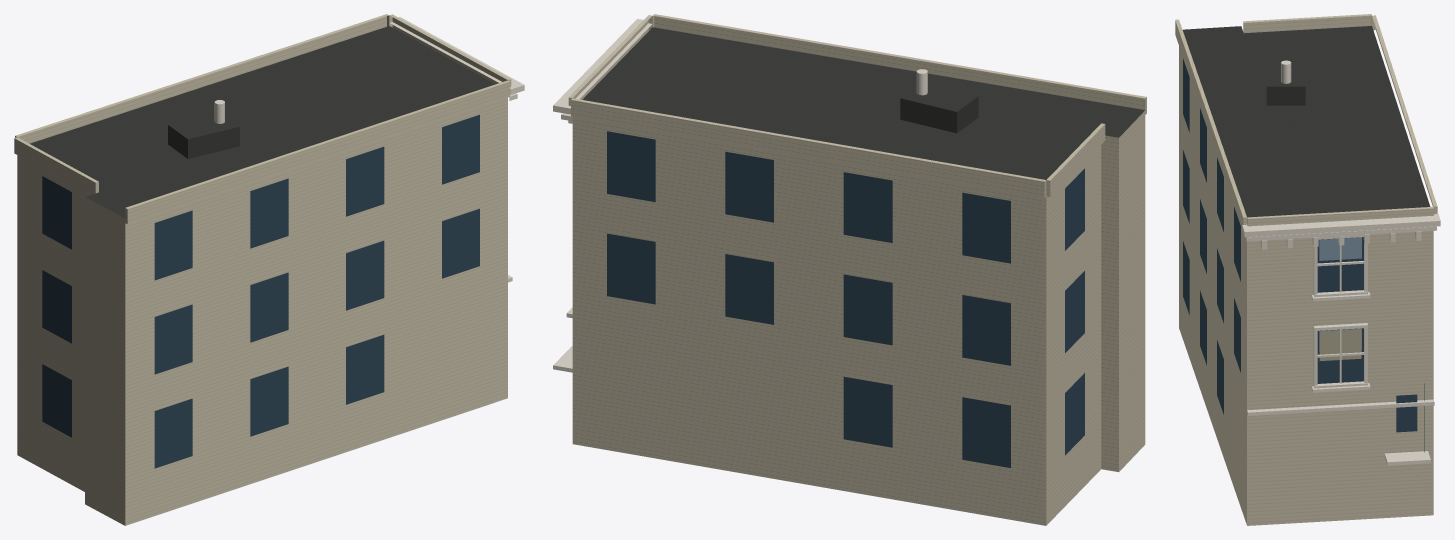
3 views of the same model, side by side, from view 1: azimuth 30°, elevation 25°; view 2: azimuth 150°, elevation 25°; view 3: azimuth 270°, elevation 25° (orthographic). The views are drawn at different scales.
Parts seen in each view (by area): view 1: Footprint 0 / surface 2, Footprint 0 / surface 1, Inset glazing, Facade bay volumes, Inferred rooftop service enclosure / surface 5, Inferred rooftop service enclosure / surface 3, Cornices and window frames; view 2: Footprint 0 / surface 2, Footprint 0 / surface 1, Inset glazing, Facade bay volumes, Cornices and window frames, Inferred rooftop service enclosure / surface 6, Inferred rooftop service enclosure / surface 3; view 3: Footprint 0 / surface 2, Footprint 0 / surface 1, Cornices and window frames, Inset glazing, Facade bay volumes, Interior blind variation, Sky reflection panels, Inferred rooftop service enclosure / surface 1, Inferred rooftop service enclosure / surface 3.
Part boxes in pixels (x1,y1,x2,y2): Footprint 0 / surface 2: (17, 97, 507, 525); Footprint 0 / surface 1: (30, 26, 495, 217); Inset glazing: (42, 114, 479, 468); Facade bay volumes: (14, 14, 511, 224); Inferred rooftop service enclosure / surface 5: (188, 126, 239, 158); Inferred rooftop service enclosure / surface 3: (168, 113, 239, 139); Cornices and window frames: (390, 17, 524, 282); Footprint 0 / surface 2: (572, 110, 1145, 525); Footprint 0 / surface 1: (582, 27, 1144, 179); Inset glazing: (607, 131, 1084, 467); Facade bay volumes: (568, 14, 1146, 198); Cornices and window frames: (553, 19, 652, 372); Inferred rooftop service enclosure / surface 6: (900, 98, 956, 133); Inferred rooftop service enclosure / surface 3: (900, 83, 978, 111); Footprint 0 / surface 2: (1179, 46, 1433, 525); Footprint 0 / surface 1: (1182, 26, 1430, 217); Cornices and window frames: (1242, 214, 1440, 465); Inset glazing: (1183, 59, 1417, 432); Facade bay volumes: (1175, 14, 1437, 228); Interior blind variation: (1319, 329, 1361, 360); Sky reflection panels: (1319, 237, 1361, 351); Inferred rooftop service enclosure / surface 1: (1266, 86, 1305, 105); Inferred rooftop service enclosure / surface 3: (1266, 62, 1305, 86).
Size of the model in its own units: 15.37 by 11.45 by 8.19.
